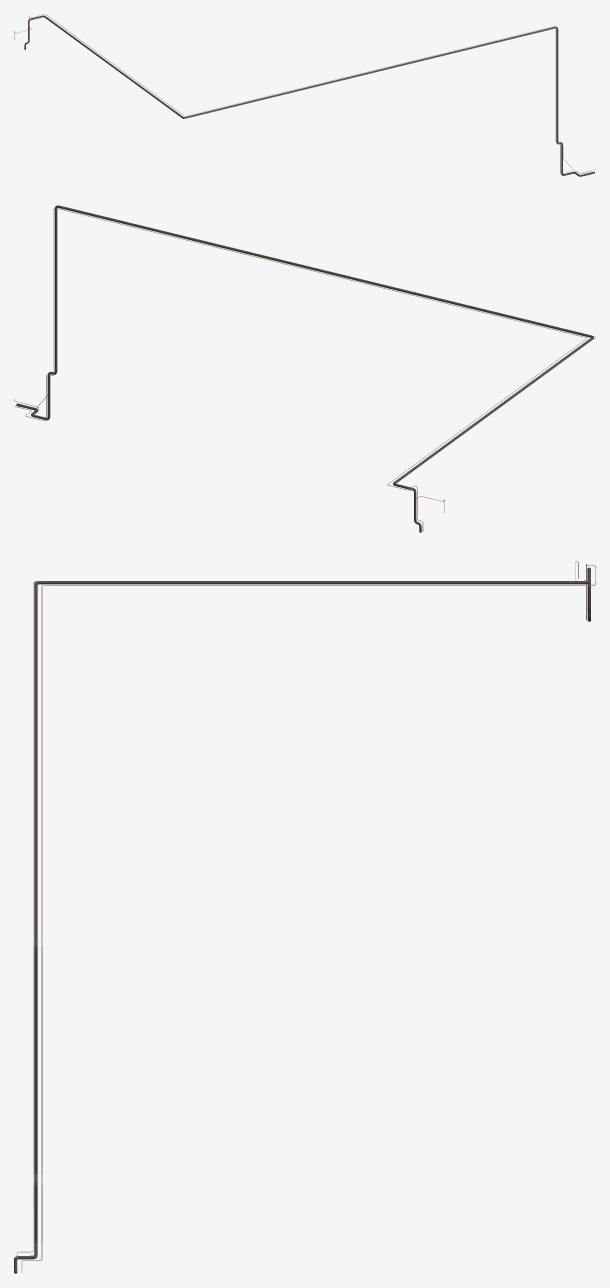
File: pipes_hvac__hvac-split_furnace_92.glb
3 renders of one model, top to bottom at view 1: azimuth 30°, elevation 25°; view 2: azimuth 150°, elevation 25°; view 3: azimuth 270°, elevation 25°, orthographic. The views are drawn at different scales.
Parts seen in each view (by area): view 1: pipe_hvac_lineset_suction_ra15ay36, pipe_hvac_lineset_liquid_ra15ay36, pipe_hvac_lineset_tstat_cable_ra15ay36; view 2: pipe_hvac_lineset_suction_ra15ay36, pipe_hvac_lineset_liquid_ra15ay36; view 3: pipe_hvac_lineset_suction_ra15ay36, pipe_hvac_lineset_liquid_ra15ay36.
Part boxes in pixels (bbox=[...]): pipe_hvac_lineset_suction_ra15ay36: bbox=[24, 15, 594, 176]; pipe_hvac_lineset_liquid_ra15ay36: bbox=[24, 14, 592, 174]; pipe_hvac_lineset_tstat_cable_ra15ay36: bbox=[14, 17, 595, 173]; pipe_hvac_lineset_suction_ra15ay36: bbox=[16, 205, 593, 532]; pipe_hvac_lineset_liquid_ra15ay36: bbox=[14, 207, 587, 531]; pipe_hvac_lineset_suction_ra15ay36: bbox=[14, 567, 590, 1273]; pipe_hvac_lineset_liquid_ra15ay36: bbox=[21, 564, 595, 1271].
Bounding box in the file's own units: 12.08 × 4 × 6.97.
